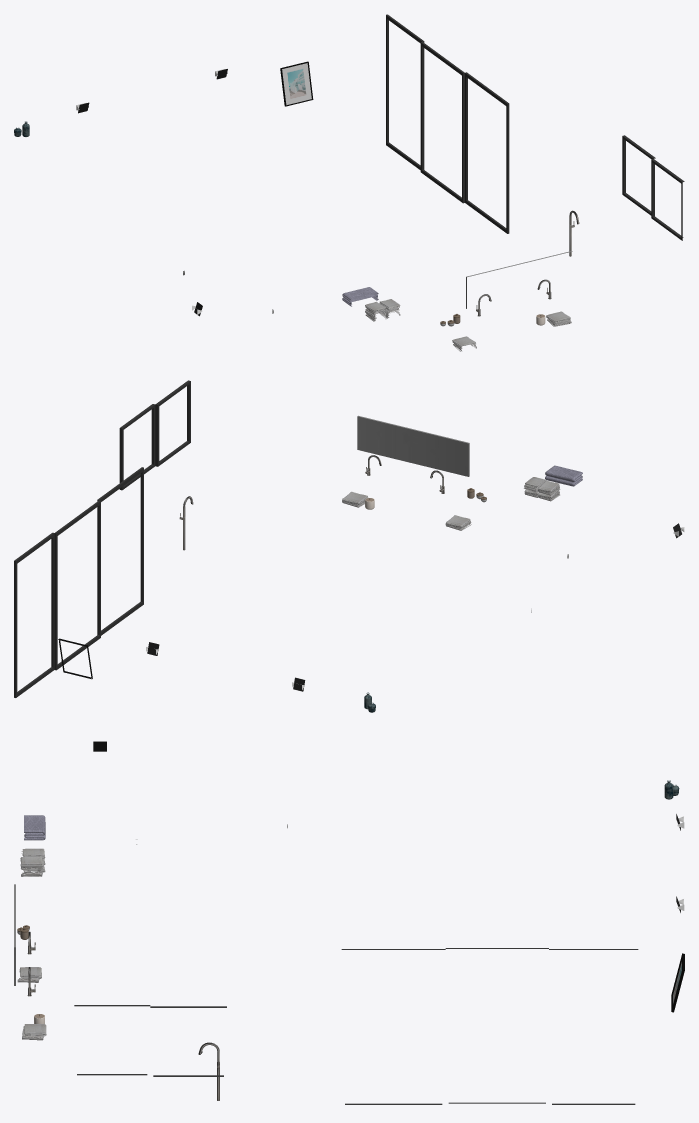
File: NOBAKED_PARENTS_1606HARDDRACO.glb
3 renders of one model, top to bottom at view 1: azimuth 30°, elevation 25°; view 2: azimuth 150°, elevation 25°; view 3: azimuth 270°, elevation 25°, orthographic. The views are drawn at different scales.
Visible parts, largest first — view 1: miroir_plan-sdb; view 2: miroir_plan-sdb; view 3: miroir_plan-sdb.
Boxes of the visible parts, x1,y1,x2,y2 form: miroir_plan-sdb: (14, 14, 684, 351); miroir_plan-sdb: (14, 380, 684, 712); miroir_plan-sdb: (14, 741, 684, 1104).
Bounding box in the file's own units: 974 × 251 × 962.
Materials: 17 (10 with a texture image).
